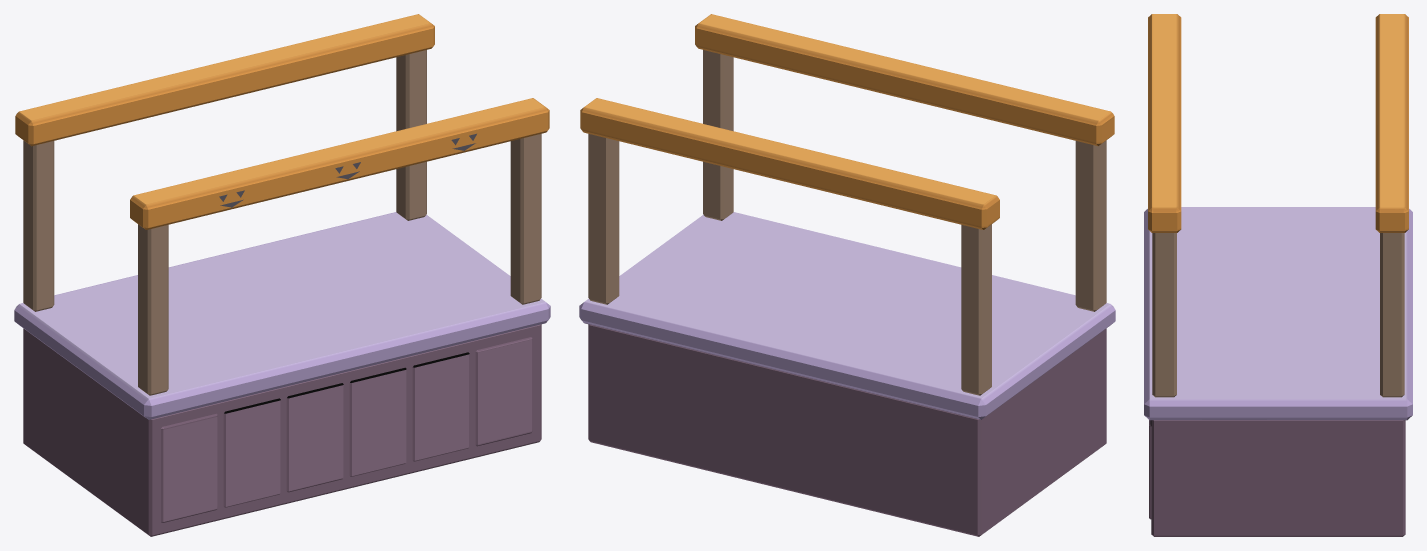
File: ServingCounter.fbx
3 views of the same model, side by side, from view 1: azimuth 30°, elevation 25°; view 2: azimuth 150°, elevation 25°; view 3: azimuth 270°, elevation 25° (orthographic).
Visible parts, largest first — view 1: ServingCounter; view 2: ServingCounter; view 3: ServingCounter.
Part boxes in pixels (bbox=[...]): ServingCounter: bbox=[14, 14, 550, 536]; ServingCounter: bbox=[579, 14, 1115, 536]; ServingCounter: bbox=[1144, 14, 1412, 536].
Bounding box in the file's own units: 840 × 660 × 484.
1 material, 1 textured.
